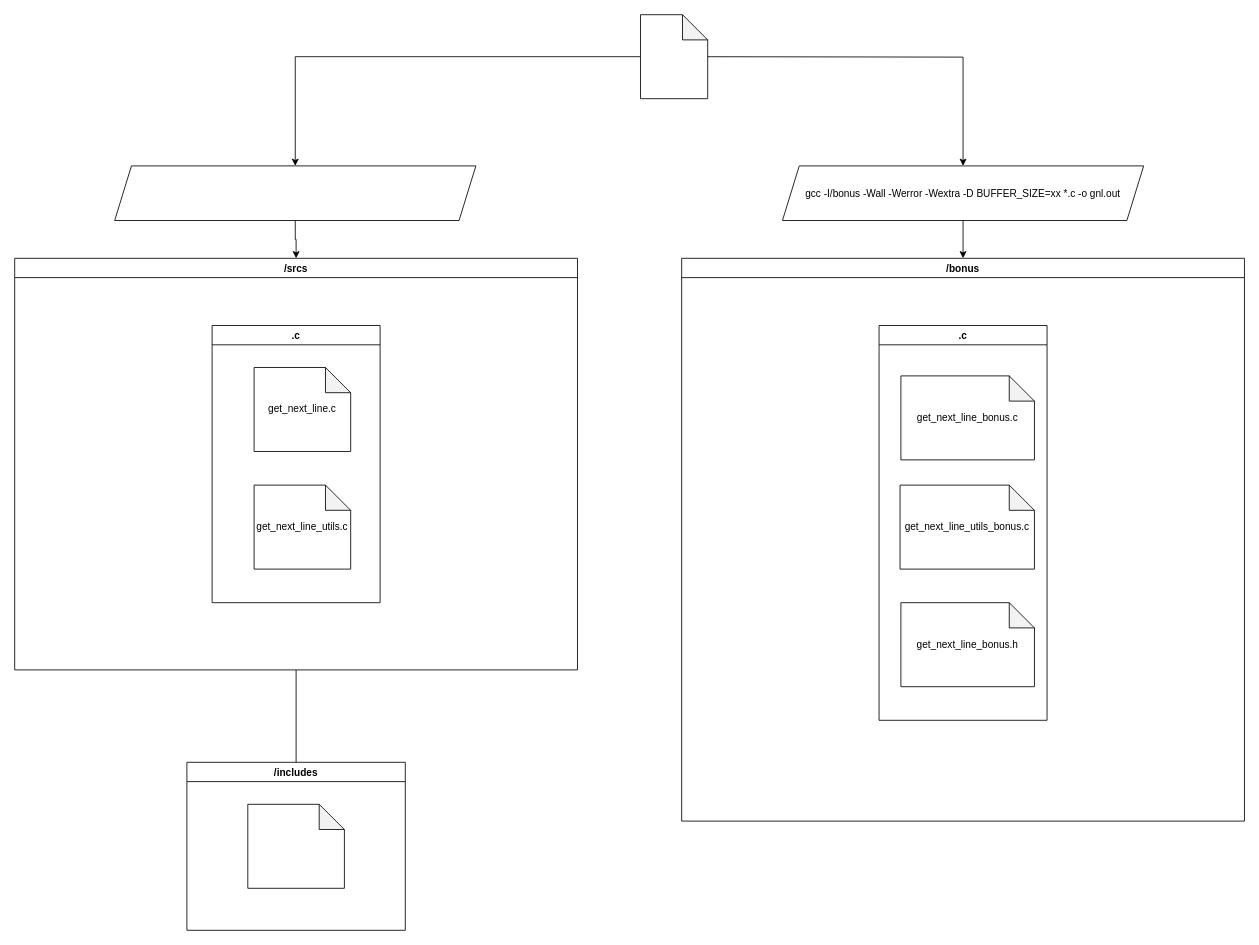
The diagram is 1259 pixels wide and 945 high, and some of its shapes have lost their labels. The shapes that lost their labels are listed below. From the top down, each one's centre as x and y in pixels, then its label:
At (674,56): "gnl.out".
At (295,192): "gcc .I/includes -Wall -Werror -Wextra -D BUFFER_SIZE=xx *.c -o gnl.out".
At (295,845): "get_next_line.h".
